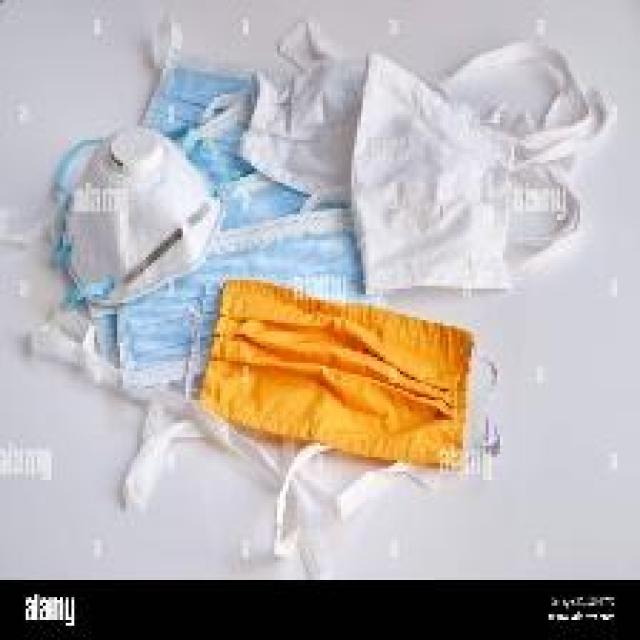Mask: (54, 78, 566, 495)
